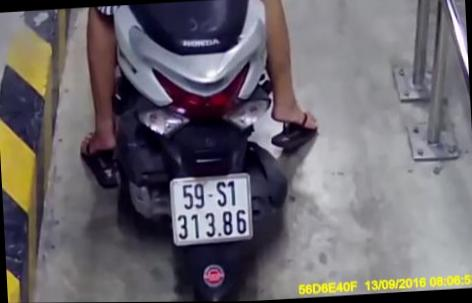LP: (166, 169, 260, 248)
